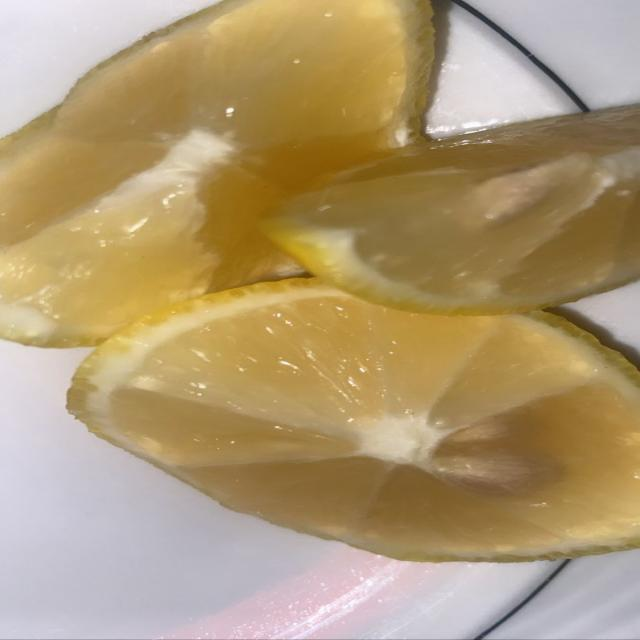lemon: (70, 280, 639, 561), (0, 0, 432, 346), (271, 106, 639, 314)
